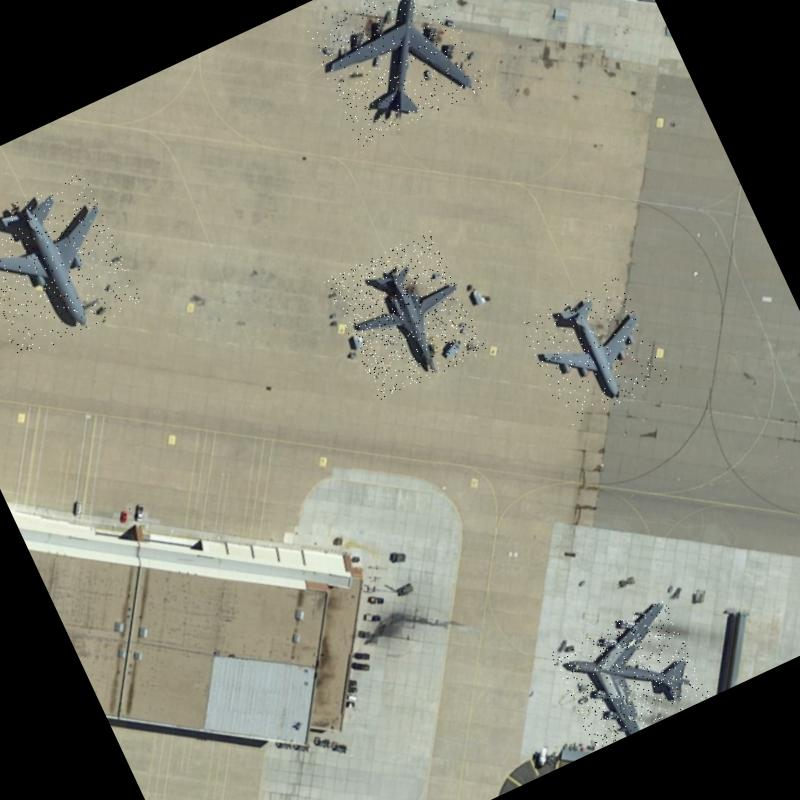A10: (323, 229, 487, 401)
A14: (518, 274, 670, 428)
A18: (0, 170, 144, 361)
A8: (304, 0, 490, 147), (548, 598, 710, 750)
